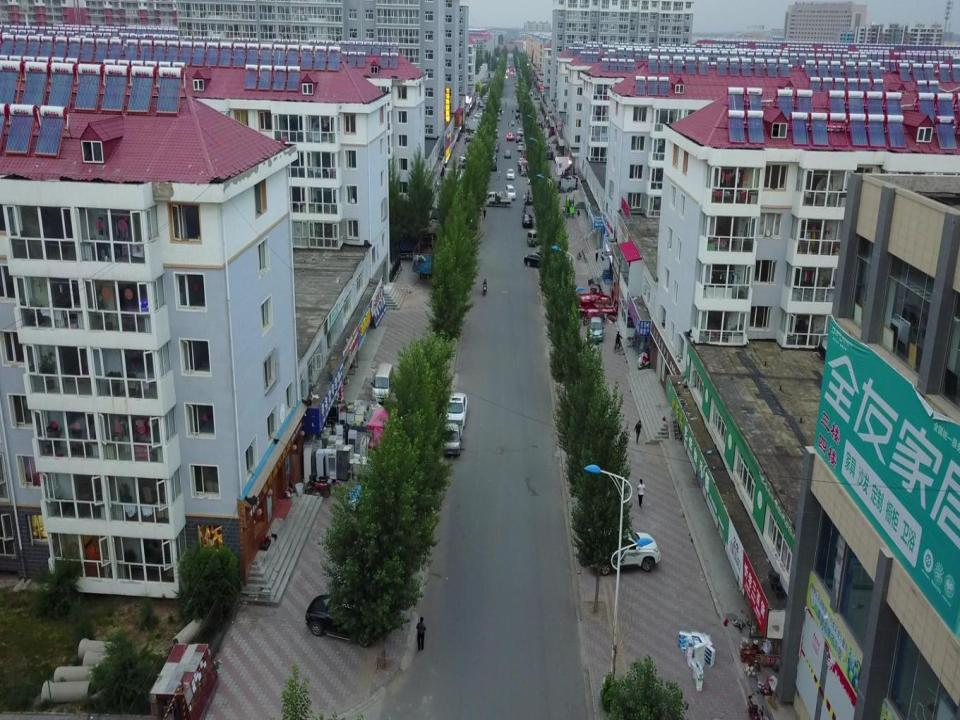car: (304, 590, 390, 648), (586, 525, 662, 576), (443, 392, 468, 428), (523, 252, 550, 268), (636, 476, 645, 509), (521, 212, 534, 229), (634, 419, 642, 445), (506, 168, 515, 180), (504, 149, 512, 158)
truck: (440, 419, 463, 456), (485, 191, 512, 207)
van: (370, 361, 394, 402), (587, 315, 605, 342), (526, 228, 548, 248), (505, 184, 516, 200)
